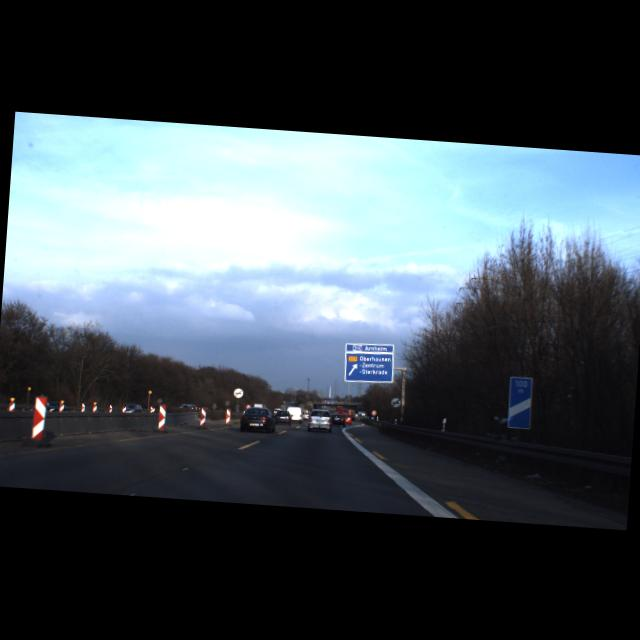other: (231, 387, 242, 398), (389, 396, 400, 407)
